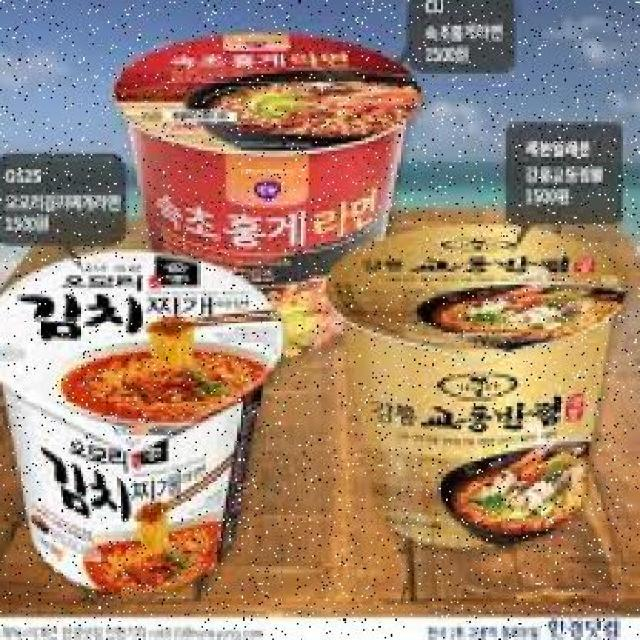Miscellaneous: (118, 21, 424, 368), (0, 243, 286, 605), (343, 234, 632, 548)
